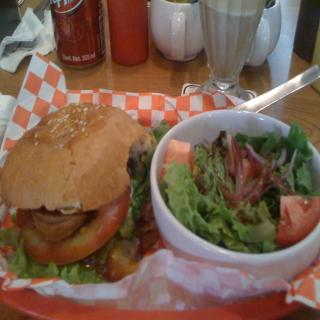Hamburger: (0, 102, 153, 268)
Salad: (148, 110, 315, 254)
